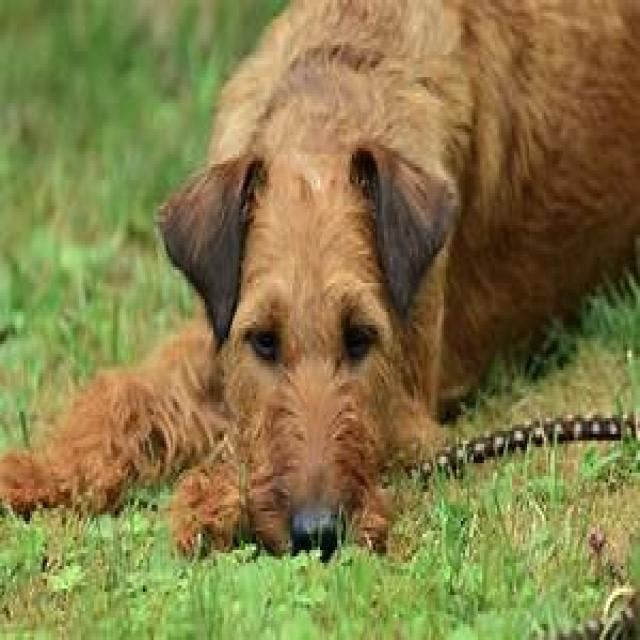dog: (2, 0, 640, 563)
